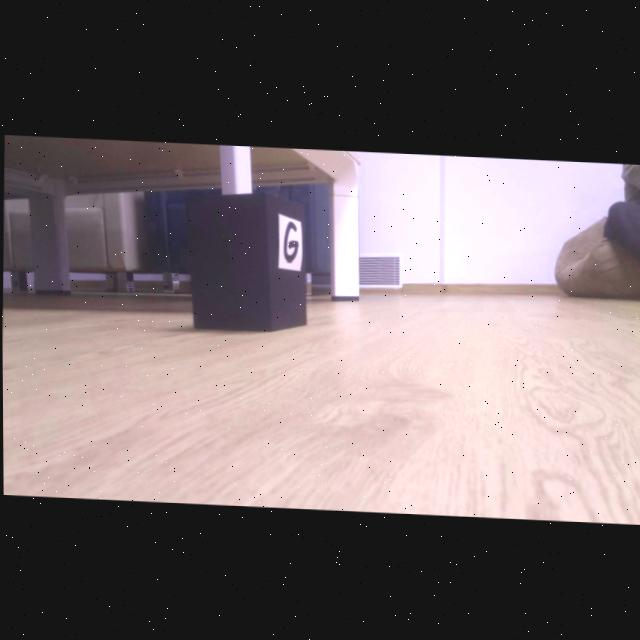G: (283, 220, 298, 259)
